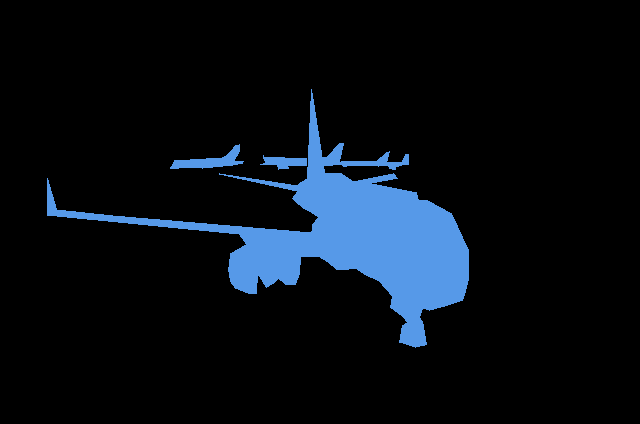Airplane: (47, 89, 468, 347), (260, 143, 343, 169), (170, 144, 243, 169), (340, 151, 409, 170)
